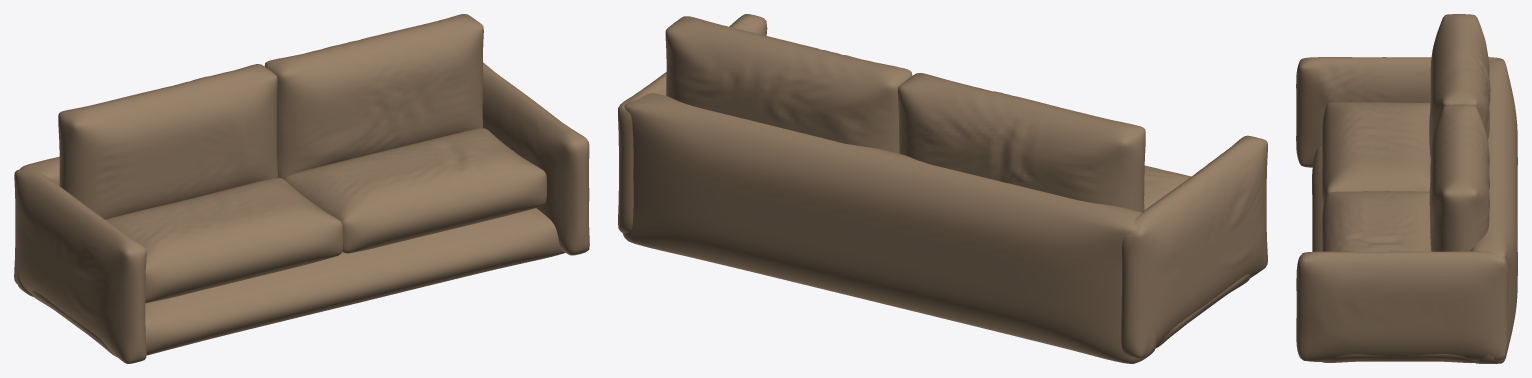
File: couch.glb
The picture shows the model from 3 angles, left to right: view 1: azimuth 30°, elevation 25°; view 2: azimuth 150°, elevation 25°; view 3: azimuth 270°, elevation 25°; orthographic projection. The views are drawn at different scales.
Parts seen in each view (by area): view 1: Cube.007; view 2: Cube.007; view 3: Cube.007.
Part boxes in pixels (x1,y1,x2,y2): Cube.007: (14, 14, 589, 363); Cube.007: (618, 14, 1267, 363); Cube.007: (1296, 14, 1517, 363).
Size of the model in its own units: 8.88 by 3.52 by 3.95.
1 material, 1 textured.
